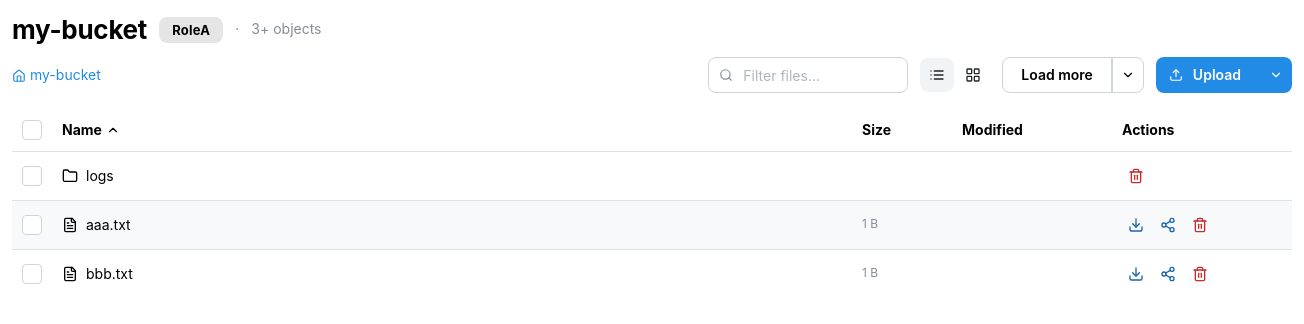
it: FileBrowser server-search mode › switches to the search source after clicking the affordance
The width and height of the screenshot is (1304, 324).
Type "4f2a" into the field with placeholder "Filter files…". click: (808,75)
box: [708,57,908,93]
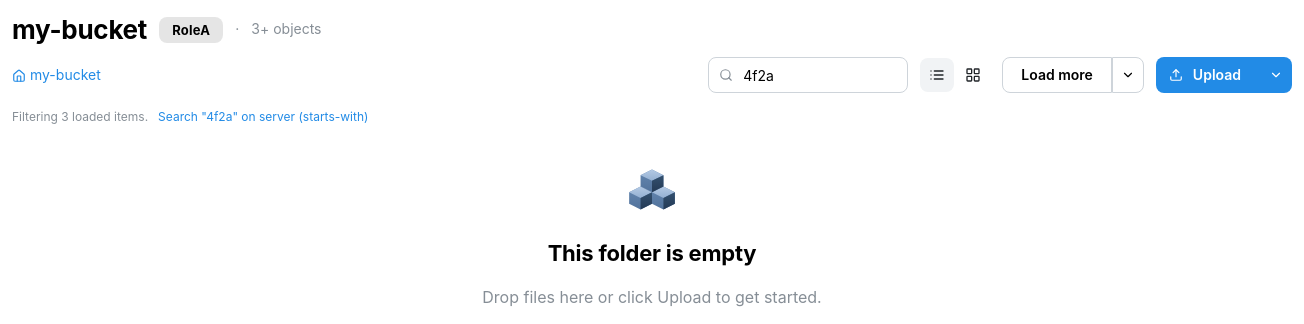
Click the button "Search \"4f2a\" on server (starts-with)". click: (263,118)
box: [158,109,368,126]
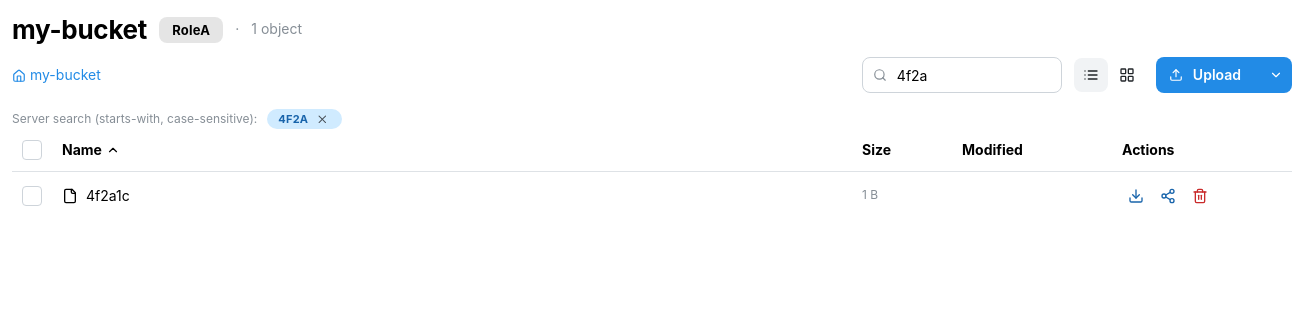
Result: the text "4f2a1c" is shown at [86,186,130,206]
Result: the text "Server search (starts-with, case-sensitive):" is shown at [12,111,257,128]
Result: the text "4f2a" is shown at [278,110,308,128]
